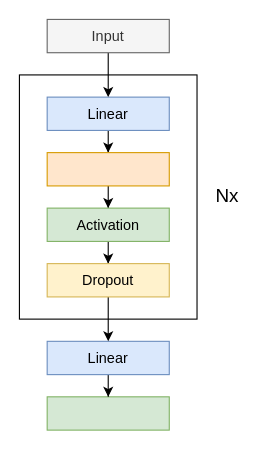
Image size: 278x450. Some labels were removed from this diagram. Each missing label, with the centre of its shape:
"Batch Norm" goes at [107,169].
"Sigmoid" goes at [107,413].
